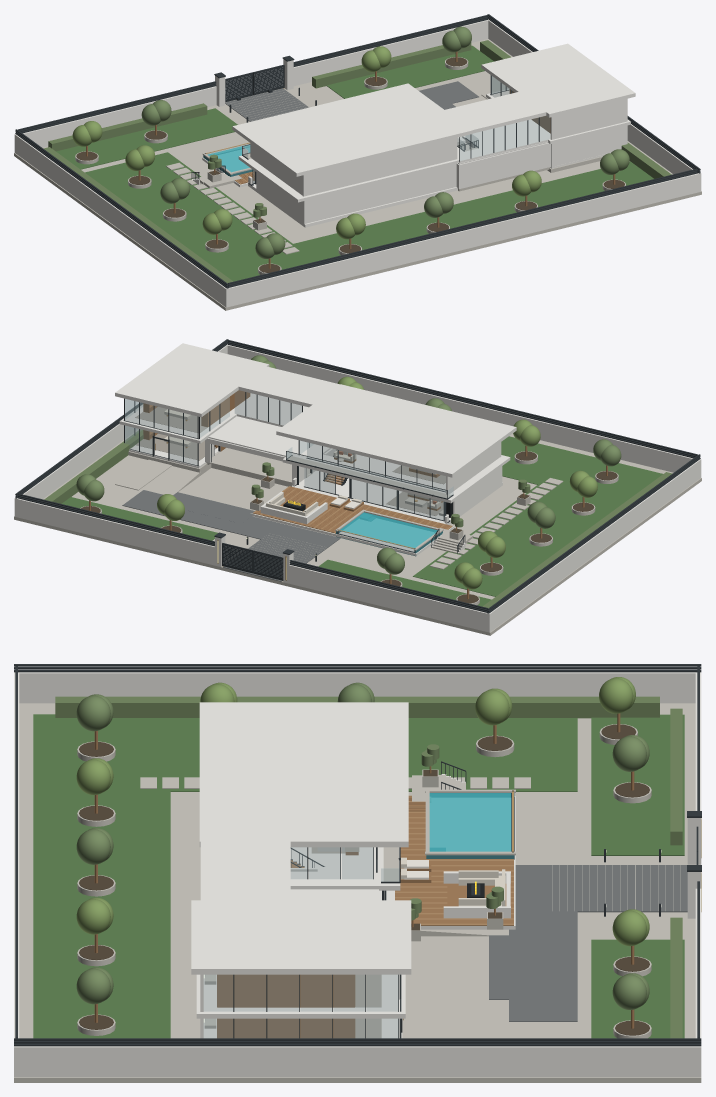
Rendered from villa_estate.glb.
The picture shows the model from 3 angles, top to bottom: view 1: azimuth 30°, elevation 25°; view 2: azimuth 150°, elevation 25°; view 3: azimuth 270°, elevation 25°; orthographic projection. The views are drawn at different scales.
Visible parts, largest first — view 1: Floating white roof, Estate foundation, Perimeter rear white wall, West garden lawn, Rear garden lawn, Perimeter white side wall (×2), Front lawn turf (×2), Pavilion cantilever roof, Perimeter front white wall (×2), Rear service wall, Upper rear wall, Perimeter rear horizontal slat (×3) (+18 smaller); view 2: Estate foundation, Floating white roof, Perimeter front white wall (×2), West garden lawn, Perimeter white side wall (×2), Pavilion cantilever roof, Perimeter rear white wall, Rear garden lawn, Perimeter rear horizontal slat (×3), Front garage approach drive, Bridge roof ribbon, Front lawn turf (×2) (+23 smaller); view 3: Estate foundation, Perimeter white side wall (×2), Rear garden lawn, Floating white roof, Pavilion cantilever roof, West garden lawn, Front lawn turf (×2), Perimeter side dark horizontal slat (×6), Landscape sculpted tree canopy (×10), Manicured perimeter hedge, Walk-in wardrobe backing (×2), Pavilion Upper side glazing (×6) (+19 smaller).
Part boxes in pixels (x1=…): Floating white roof: x1=232, y1=83, x2=472, y2=176; Estate foundation: x1=14, y1=39, x2=701, y2=310; Perimeter rear white wall: x1=229, y1=173, x2=698, y2=306; West garden lawn: x1=85, y1=152, x2=311, y2=277; Rear garden lawn: x1=210, y1=161, x2=653, y2=281; Perimeter white side wall (×2): x1=14, y1=19, x2=701, y2=307; Front lawn turf (×2): x1=56, y1=45, x2=493, y2=169; Pavilion cantilever roof: x1=481, y1=43, x2=635, y2=117; Perimeter front white wall (×2): x1=23, y1=20, x2=488, y2=147; Rear service wall: x1=304, y1=164, x2=456, y2=223; Upper rear wall: x1=302, y1=138, x2=457, y2=196; Perimeter rear horizontal slat (×3): x1=228, y1=168, x2=697, y2=287; Estate foundation: x1=14, y1=429, x2=701, y2=635; Floating white roof: x1=276, y1=384, x2=516, y2=477; Perimeter front white wall (×2): x1=17, y1=498, x2=486, y2=631; West garden lawn: x1=413, y1=484, x2=638, y2=596; Perimeter white side wall (×2): x1=14, y1=344, x2=701, y2=632; Pavilion cantilever roof: x1=115, y1=343, x2=269, y2=417; Perimeter rear white wall: x1=227, y1=345, x2=692, y2=472; Rear garden lawn: x1=501, y1=436, x2=662, y2=504; Perimeter rear horizontal slat (×3): x1=228, y1=340, x2=697, y2=458; Front garage approach drive: x1=122, y1=490, x2=340, y2=553; Bridge roof ribbon: x1=238, y1=364, x2=354, y2=408; Front lawn turf (×2): x1=62, y1=497, x2=491, y2=606; Estate foundation: x1=14, y1=703, x2=701, y2=1082; Perimeter white side wall (×2): x1=14, y1=672, x2=701, y2=1077; Rear garden lawn: x1=33, y1=714, x2=170, y2=1038; Floating white roof: x1=199, y1=702, x2=408, y2=847; Pavilion cantilever roof: x1=191, y1=900, x2=411, y2=974; West garden lawn: x1=110, y1=718, x2=577, y2=791; Front lawn turf (×2): x1=591, y1=714, x2=684, y2=1038; Perimeter side dark horizontal slat (×6): x1=14, y1=664, x2=701, y2=1046; Landscape sculpted tree canopy (×10): x1=76, y1=678, x2=646, y2=1009; Manicured perimeter hedge: x1=55, y1=696, x2=659, y2=718; Walk-in wardrobe backing (×2): x1=217, y1=974, x2=354, y2=1038; Pavilion Upper side glazing (×6): x1=204, y1=975, x2=397, y2=1011.
Size of what is drawn, in the model's own units: 65 by 8.4 by 50.05.
